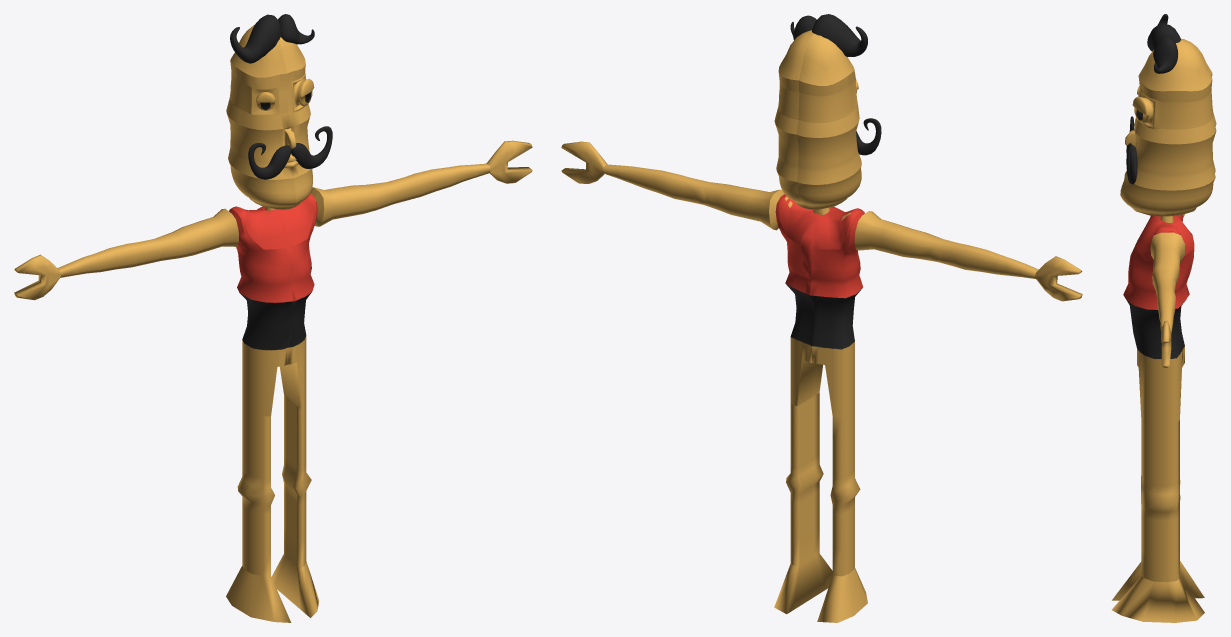
The model's file is BARMAN_NORIG.fbx.
The picture shows the model from 3 angles, left to right: view 1: azimuth 30°, elevation 25°; view 2: azimuth 150°, elevation 25°; view 3: azimuth 270°, elevation 25°; orthographic projection.
Parts seen in each view (by area): view 1: body, head.001, mustasz.001, wlos1; view 2: body, head.001, wlos1; view 3: body, head.001, wlos2, wlos1, mustasz.001.
Boxes of the visible parts, x1=… form: body: x1=14, y1=140, x2=532, y2=622; head.001: x1=226, y1=24, x2=314, y2=209; mustasz.001: x1=248, y1=126, x2=332, y2=179; wlos1: x1=230, y1=14, x2=280, y2=63; body: x1=561, y1=141, x2=1082, y2=622; head.001: x1=774, y1=30, x2=861, y2=209; wlos1: x1=812, y1=14, x2=867, y2=56; body: x1=1112, y1=214, x2=1204, y2=622; head.001: x1=1120, y1=38, x2=1216, y2=216; wlos2: x1=1153, y1=37, x2=1178, y2=73; wlos1: x1=1147, y1=14, x2=1180, y2=51; mustasz.001: x1=1126, y1=116, x2=1137, y2=184.
Bounding box in the file's own units: 192 × 209 × 34.42.
Materials: 5 (5 with a texture image).
